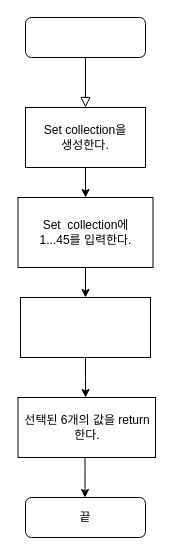
Image size: 173x555. Some labels were removed from this diagram. The shapes that lost their labels are listed below. From the top down, each one's centre as x and y in pixels, then its label:
At (85,37): "시작".
At (85,327): "Set colletion에서 랜덤으로 6개의 값을 겹치지 않게 선택한다.".
